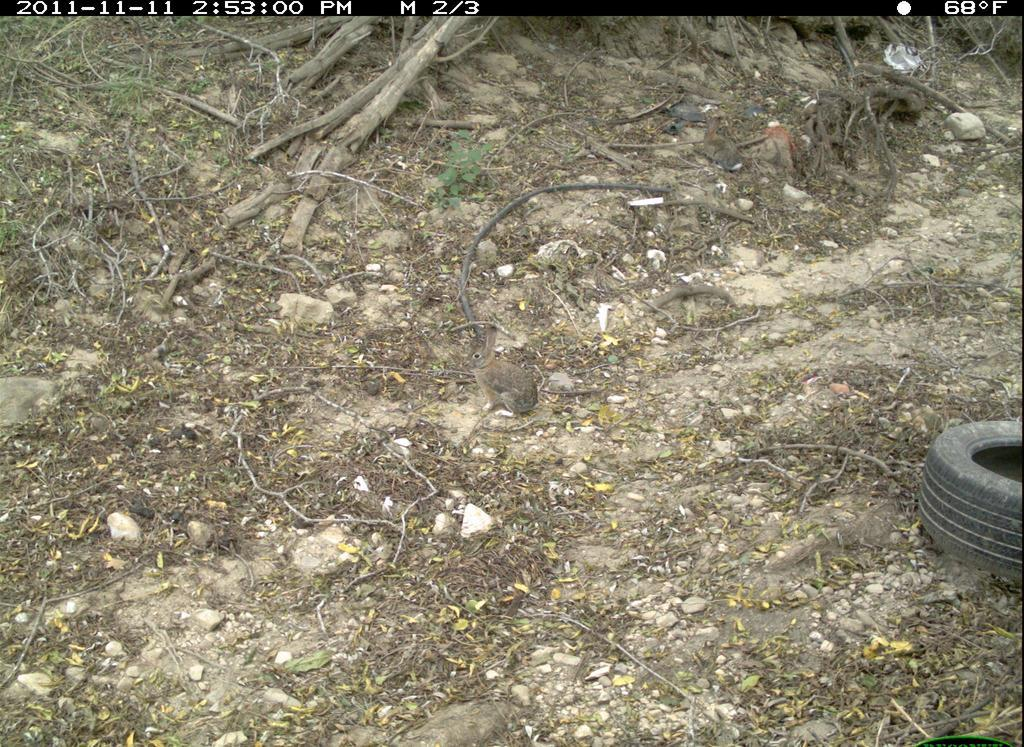rabbit: (459, 321, 551, 424)
